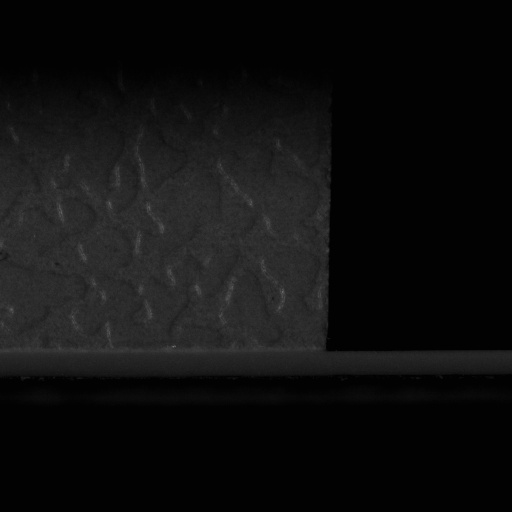changdai: (322, 346, 509, 378)
